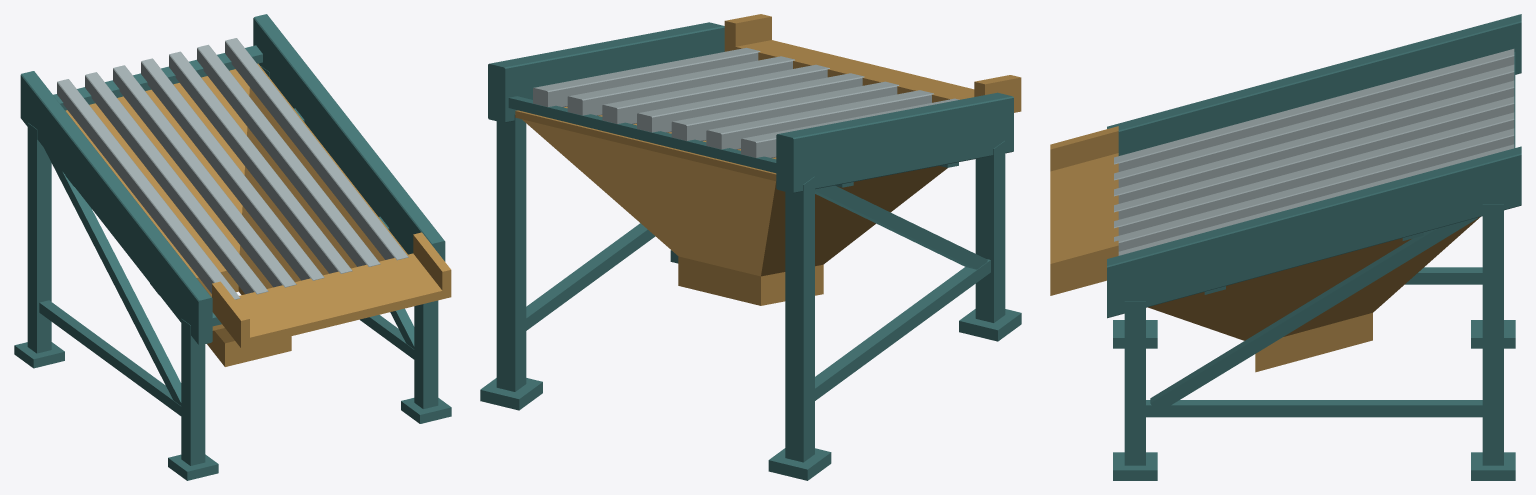
The picture shows the model from 3 angles, left to right: view 1: azimuth 30°, elevation 25°; view 2: azimuth 150°, elevation 25°; view 3: azimuth 270°, elevation 25°; orthographic projection. The views are drawn at different scales.
Visible parts, largest first — view 1: LowEnd_OpenULip, Collector_ContinuousThickOpenShell, SideBeam_L, SideBeam_R, GrizzlyBar_05, GrizzlyBar_03, GrizzlyBar_04, GrizzlyBar_06, GrizzlyBar_07, GrizzlyBar_02, GrizzlyBar_01, Leg_L_High (+10 smaller); view 2: Collector_ContinuousThickOpenShell, SideBeam_L, SideBeam_R, Leg_R_High, Leg_L_High, LowEnd_OpenULip, Leg_L_Low, LowerSideTie_L, GrizzlyBar_03, GrizzlyBar_06, GrizzlyBar_04, GrizzlyBar_02 (+9 smaller); view 3: SideBeam_R, Collector_ContinuousThickOpenShell, SideBeam_L, LowEnd_OpenULip, GrizzlyBar_04, GrizzlyBar_03, GrizzlyBar_05, GrizzlyBar_01, GrizzlyBar_02, GrizzlyBar_06, DiagonalBrace_R, LowerSideTie_R (+8 smaller).
Part boxes in pixels (bbox=[...]): LowEnd_OpenULip: bbox=[212, 232, 451, 348]; Collector_ContinuousThickOpenShell: bbox=[65, 63, 407, 366]; SideBeam_L: bbox=[20, 71, 212, 345]; SideBeam_R: bbox=[253, 14, 445, 261]; GrizzlyBar_05: bbox=[169, 51, 352, 273]; GrizzlyBar_03: bbox=[113, 65, 296, 287]; GrizzlyBar_04: bbox=[141, 58, 324, 280]; GrizzlyBar_06: bbox=[197, 44, 380, 266]; GrizzlyBar_07: bbox=[225, 38, 408, 260]; GrizzlyBar_02: bbox=[85, 72, 268, 294]; GrizzlyBar_01: bbox=[57, 79, 240, 299]; Leg_L_High: bbox=[27, 123, 51, 353]; Collector_ContinuousThickOpenShell: bbox=[515, 106, 947, 305]; SideBeam_L: bbox=[776, 92, 1013, 193]; SideBeam_R: bbox=[488, 22, 724, 122]; Leg_R_High: bbox=[496, 114, 526, 391]; Leg_L_High: bbox=[785, 176, 814, 462]; LowEnd_OpenULip: bbox=[724, 14, 1021, 112]; Leg_L_Low: bbox=[975, 141, 1005, 322]; LowerSideTie_L: bbox=[815, 259, 990, 400]; GrizzlyBar_03: bbox=[671, 81, 898, 141]; GrizzlyBar_06: bbox=[567, 56, 794, 115]; GrizzlyBar_04: bbox=[637, 73, 864, 132]; GrizzlyBar_02: bbox=[706, 90, 933, 149]; SideBeam_R: bbox=[1107, 146, 1521, 318]; Collector_ContinuousThickOpenShell: bbox=[1148, 217, 1480, 372]; SideBeam_L: bbox=[1107, 14, 1521, 155]; LowEnd_OpenULip: bbox=[1050, 126, 1118, 295]; GrizzlyBar_04: bbox=[1114, 96, 1514, 219]; GrizzlyBar_03: bbox=[1114, 80, 1514, 203]; GrizzlyBar_05: bbox=[1114, 112, 1514, 235]; GrizzlyBar_01: bbox=[1114, 49, 1514, 171]; GrizzlyBar_02: bbox=[1114, 64, 1514, 187]; GrizzlyBar_06: bbox=[1114, 128, 1514, 251]; DiagonalBrace_R: bbox=[1150, 217, 1477, 405]; LowerSideTie_R: bbox=[1146, 400, 1482, 417].
Size of the model in its own units: 1.51 by 1.51 by 2.
